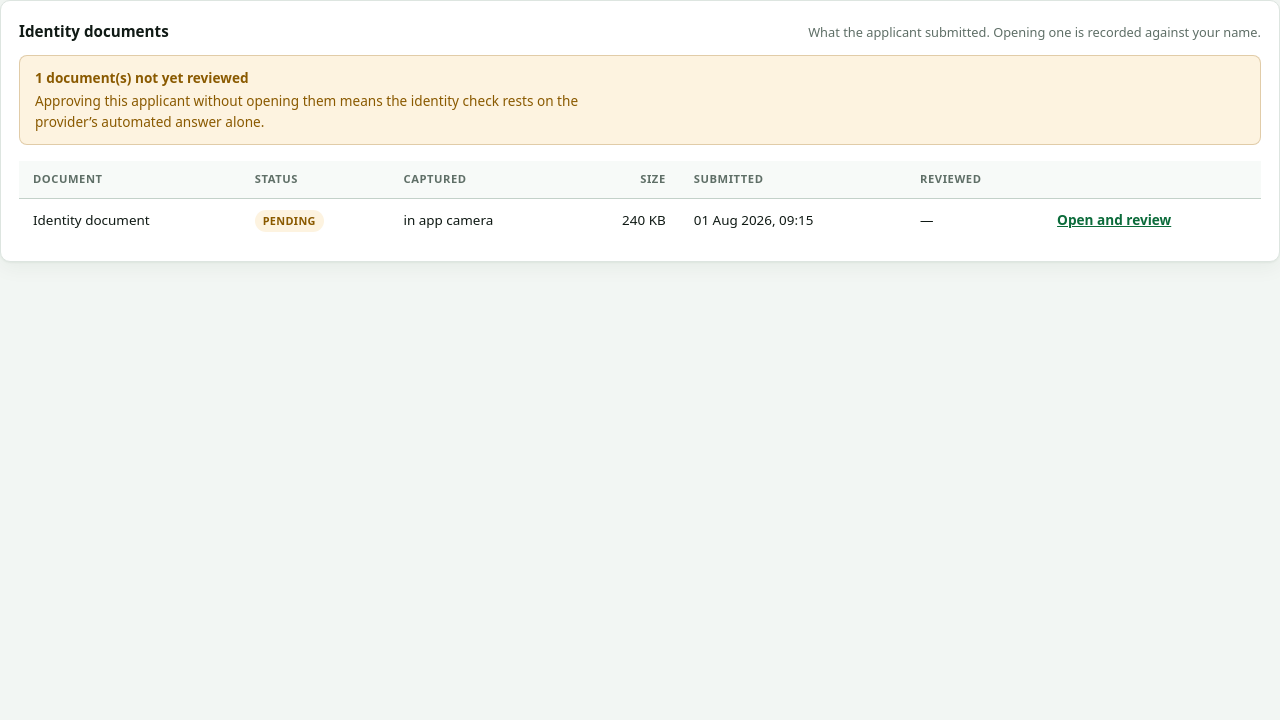
Test: deciding on a document › sends the decision and the reason, and reloads the list afterwards
Click the button "Open and review" at (1114, 220), box [1057, 210, 1171, 230]
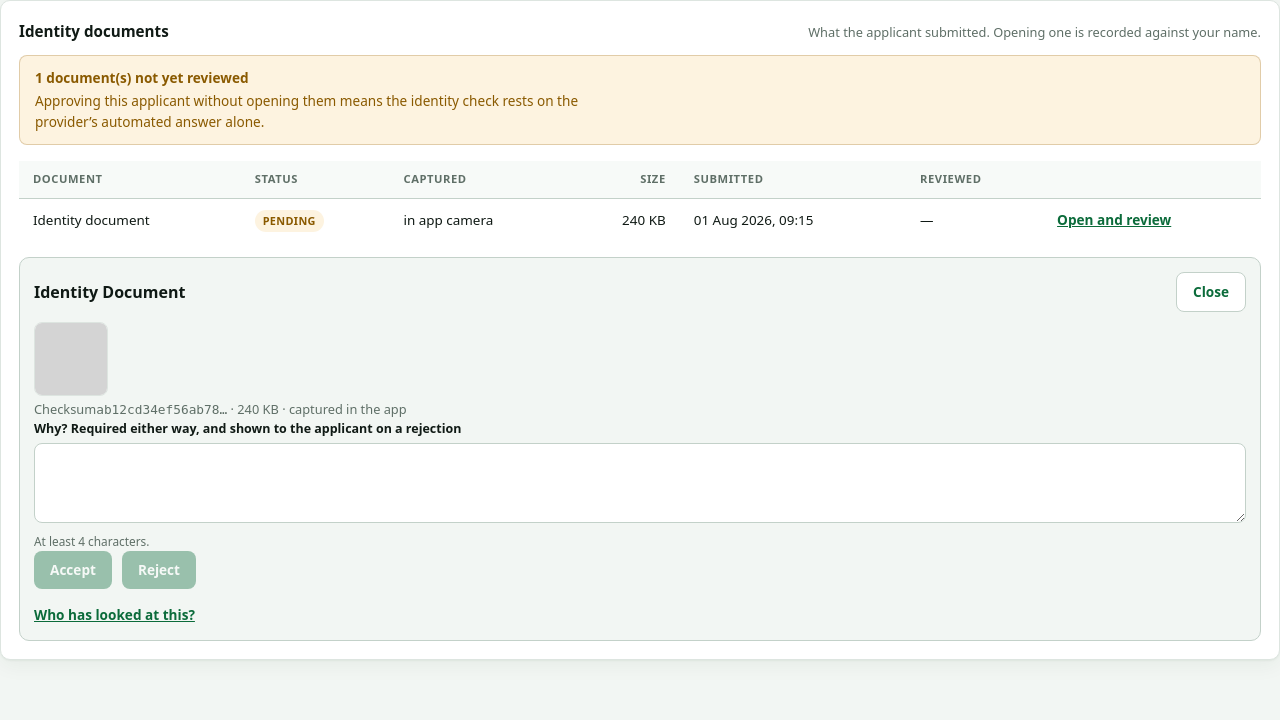
Type "Photograph is blurred beyond reading the number." into the text box labelled "Why" at (640, 483), box [34, 443, 1246, 523]
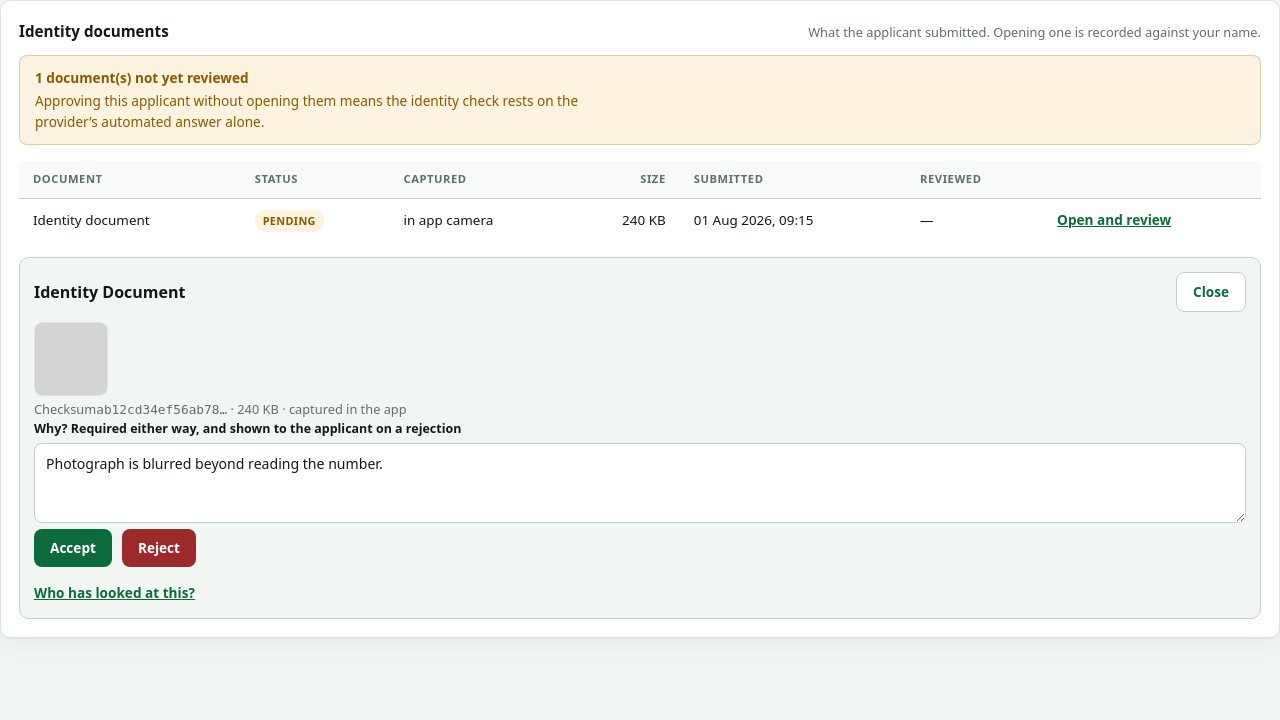
Click the button "Reject" at (159, 548), box [122, 529, 196, 567]
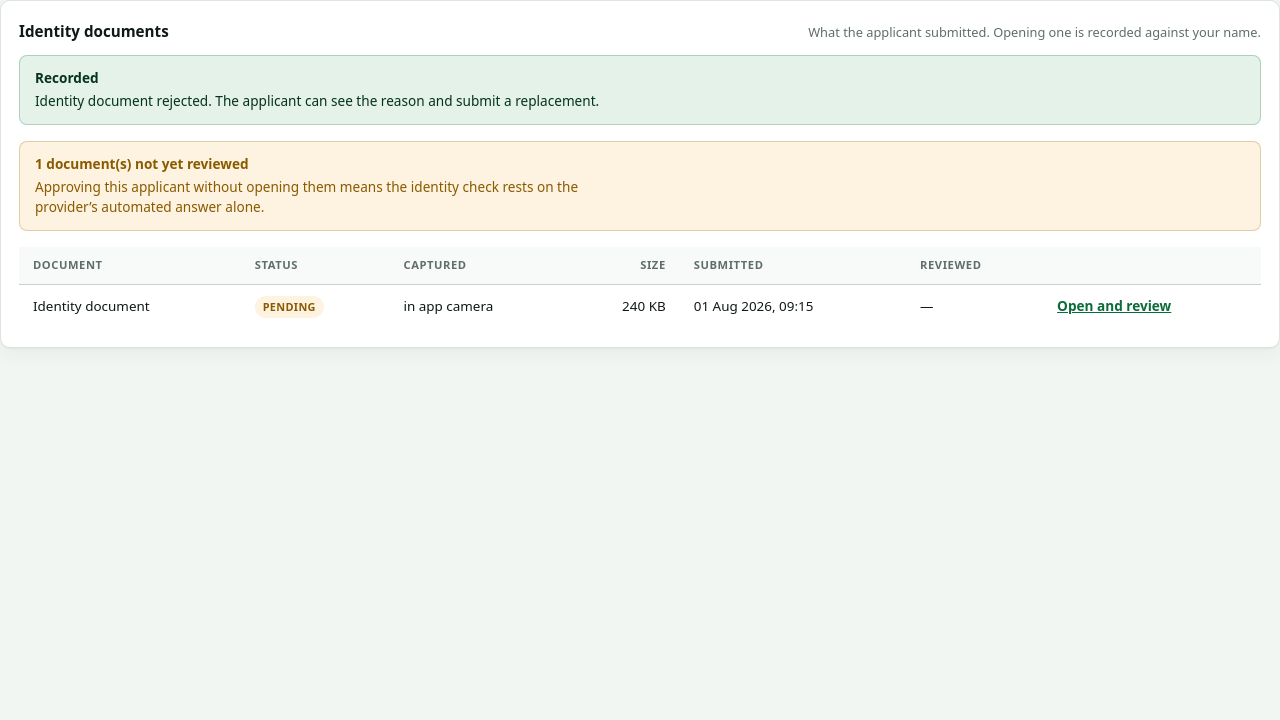
Now the text "replacement" is shown, box [35, 91, 599, 110]
